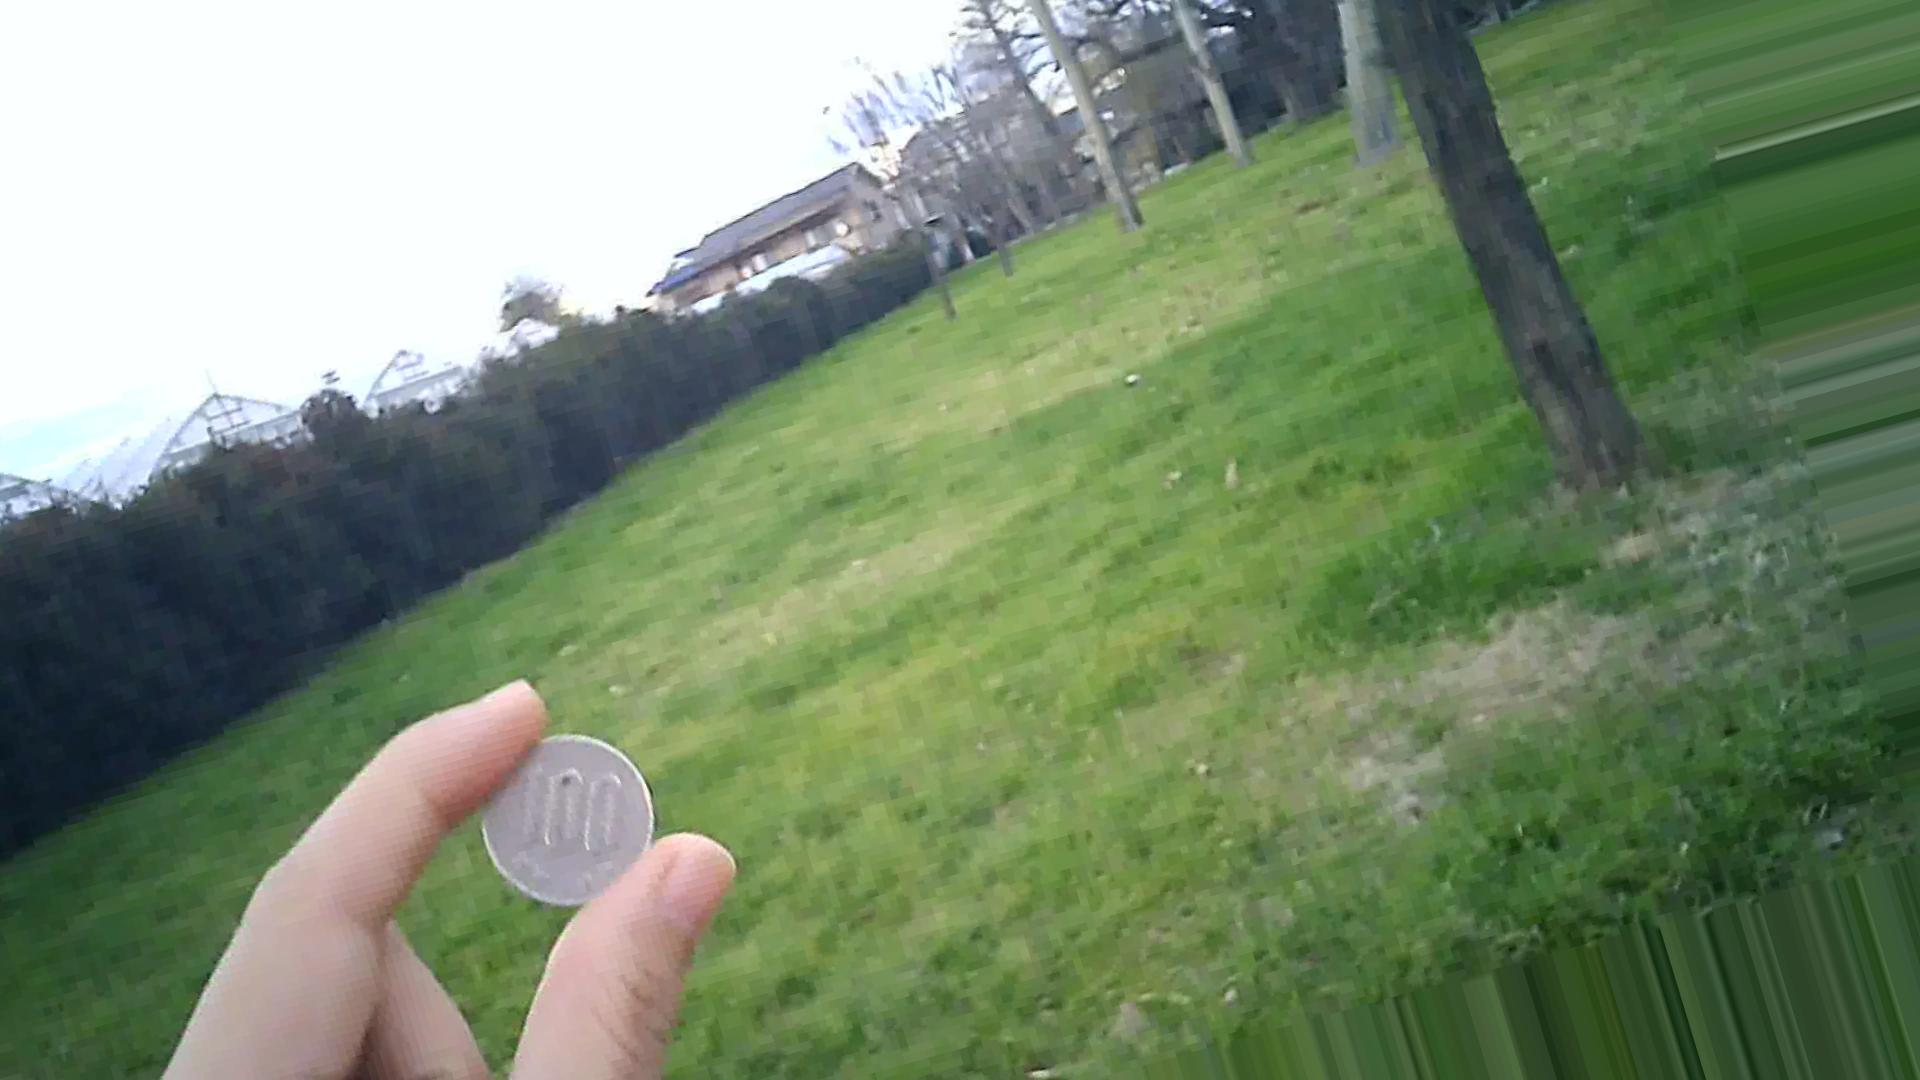100 Yen: (469, 731, 667, 901)
